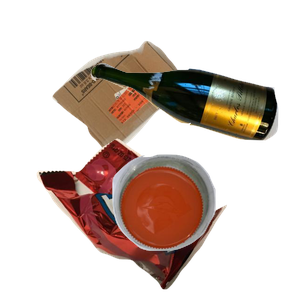cardboard: (50, 38, 233, 184)
glass: (88, 60, 300, 193)
plastic: (110, 152, 300, 300)
trash: (34, 136, 253, 300)
